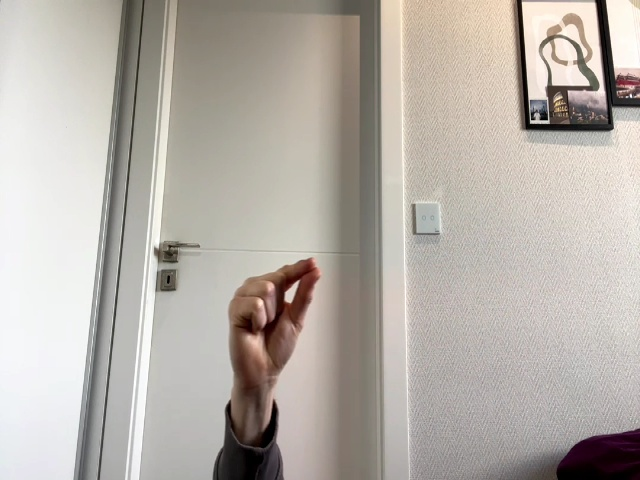P: (229, 259, 321, 382)
